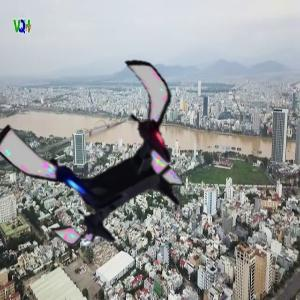drone: (8, 53, 207, 252)
